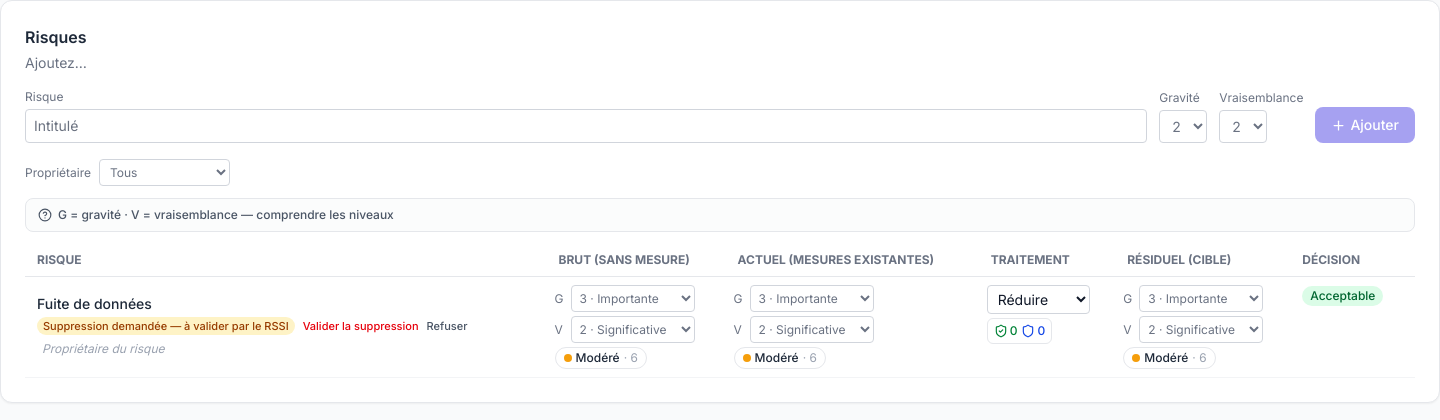
Test: RisquesDirects — projet 360 : suppression soumise à validation › le RSSI voit « Valider la suppression » et « Refuser » sur une demande en attente
The image size is (1440, 420).
Expected: the button "Valider la suppression" is shown, x1=303 y1=319 x2=418 y2=334
Click the button "Refuser" at (447, 326), box x1=427 y1=319 x2=468 y2=334
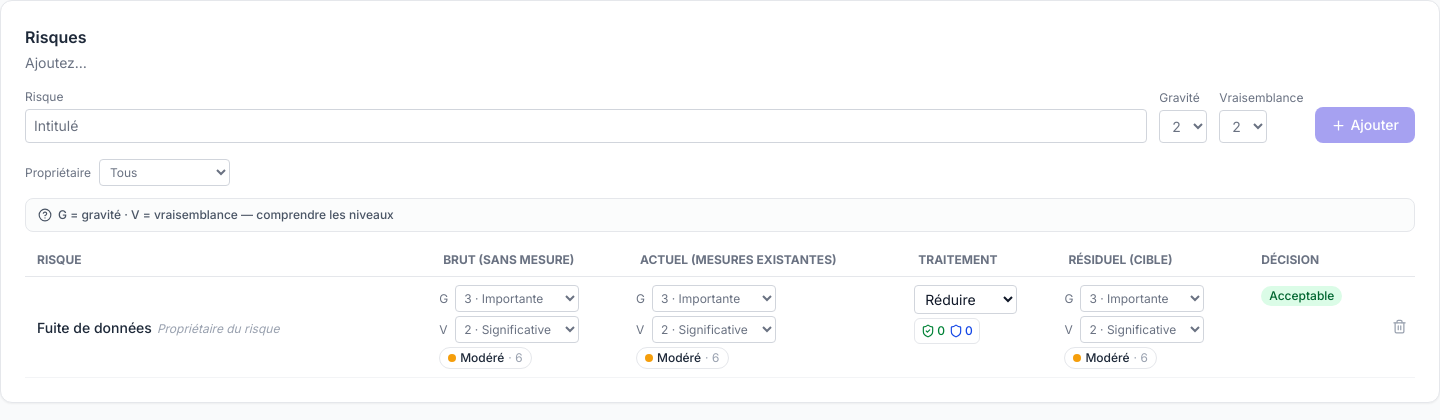
Expected: the text "Suppression demandée" is gone
